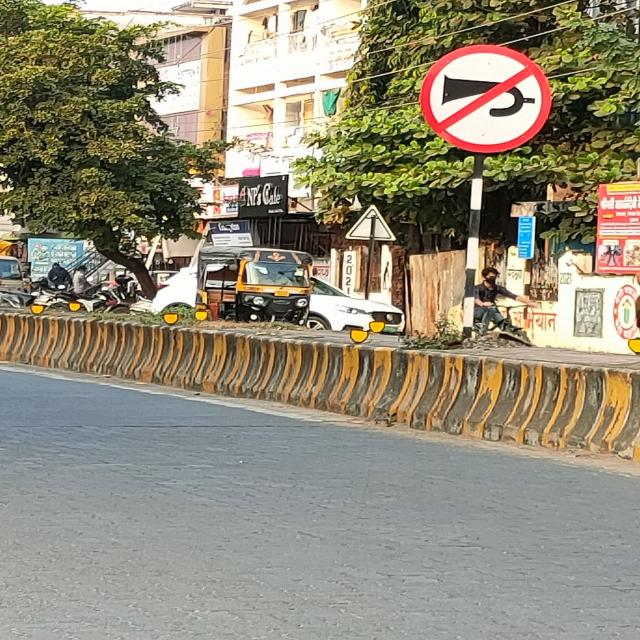HORN_PROHIBITED: (420, 45, 552, 153)
